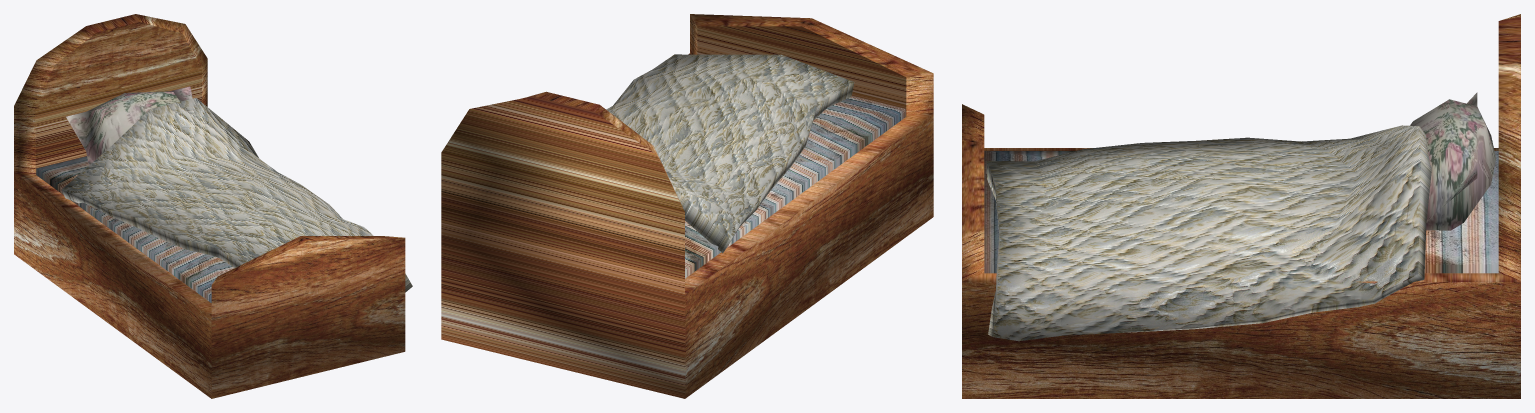
The model's file is Bedroom_bed.glb.
The picture shows the model from 3 angles, left to right: view 1: azimuth 30°, elevation 25°; view 2: azimuth 150°, elevation 25°; view 3: azimuth 270°, elevation 25°; orthographic projection. The views are drawn at different scales.
Visible parts, largest first — view 1: Cube.041, Plane.005, Cube.042, Cube.043; view 2: Cube.041, Plane.005, Cube.042; view 3: Plane.005, Cube.041, Cube.043, Cube.042.
Part boxes in pixels (box(x1,y1,x2,y2)): Cube.041: box(14, 14, 405, 398); Plane.005: box(61, 98, 412, 292); Cube.042: box(36, 156, 234, 302); Cube.043: box(66, 86, 192, 165); Cube.041: box(441, 14, 933, 398); Plane.005: box(606, 54, 854, 253); Cube.042: box(685, 96, 905, 278); Plane.005: box(986, 125, 1431, 341); Cube.041: box(962, 14, 1520, 398); Cube.043: box(1410, 92, 1495, 230); Cube.042: box(984, 151, 1498, 273).
Bounding box in the file's own units: 2.4 × 2.26 × 3.83.
4 materials, 4 textured.
